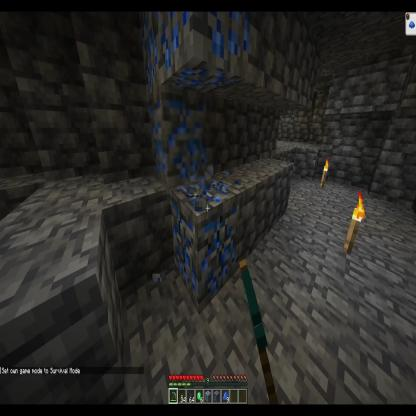lapis ore: (169, 173, 244, 313), (156, 1, 251, 92), (148, 98, 212, 189), (143, 14, 167, 102)
